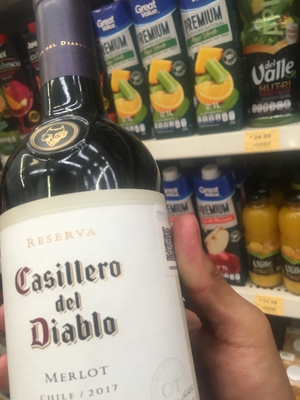casillero del diablo merlot: (1, 16, 188, 400)
